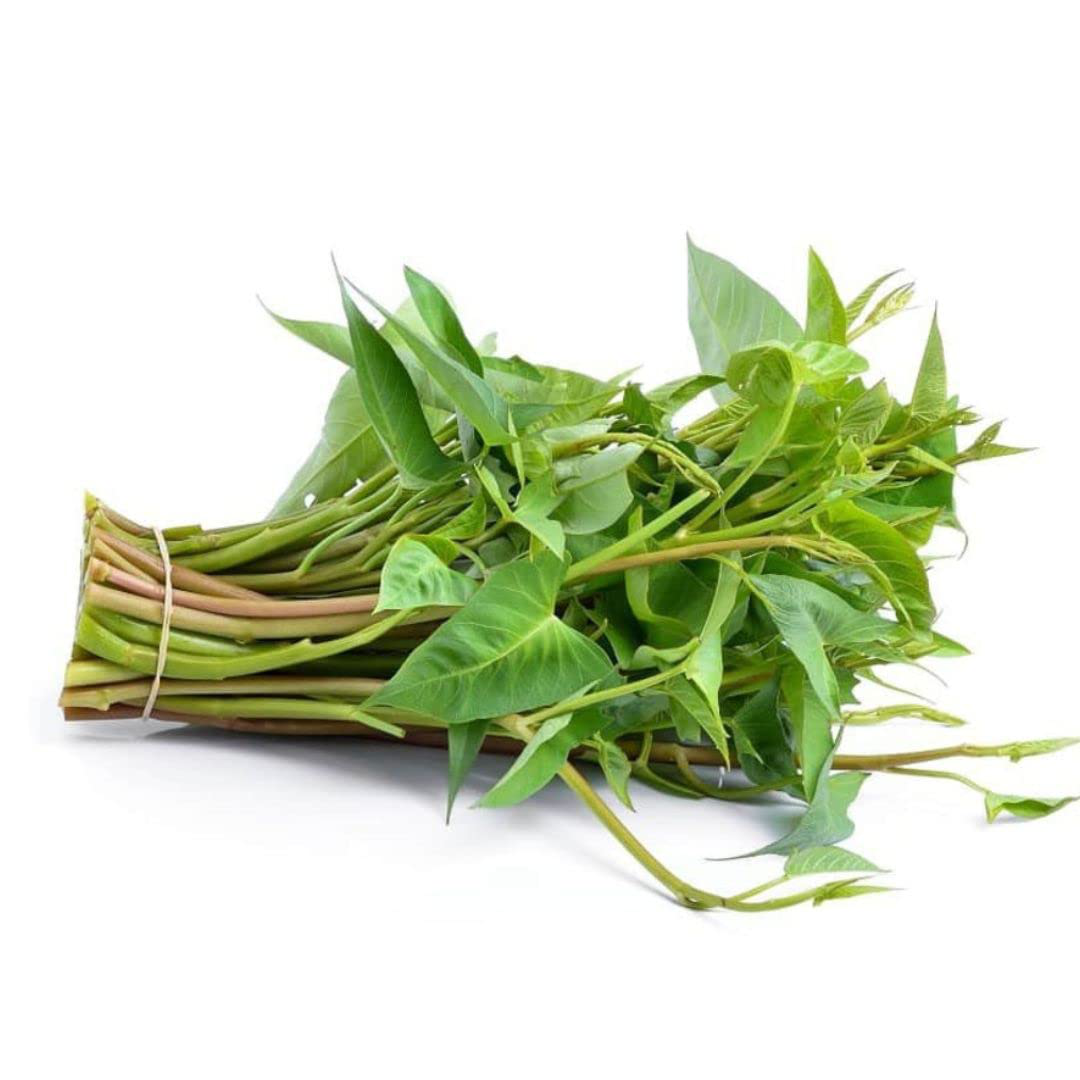Kangkung: (53, 183, 1064, 964)
